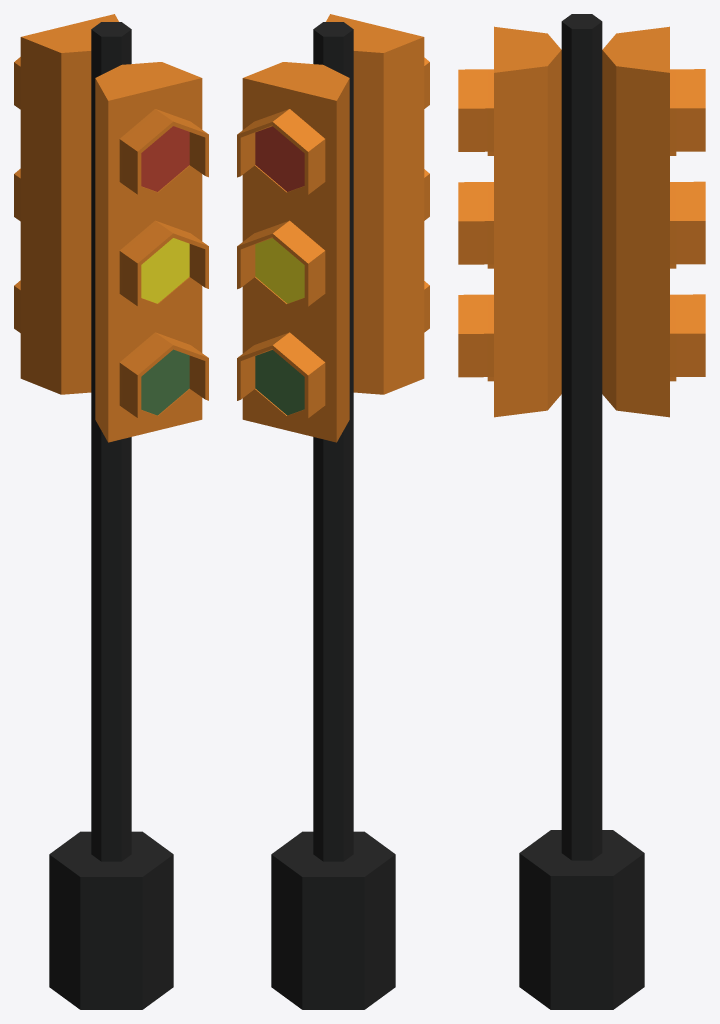
The model's file is Road_Objects_Traffic_Light_02.fbx.
3 views of the same model, side by side, from view 1: azimuth 30°, elevation 25°; view 2: azimuth 150°, elevation 25°; view 3: azimuth 270°, elevation 25° (orthographic).
Parts seen in each view (by area): view 1: Road_Objects_Traffic_Light_02; view 2: Road_Objects_Traffic_Light_02; view 3: Road_Objects_Traffic_Light_02.
Boxes of the visible parts, x1,y1,x2,y2 form: Road_Objects_Traffic_Light_02: [14, 14, 208, 1009]; Road_Objects_Traffic_Light_02: [237, 14, 429, 1009]; Road_Objects_Traffic_Light_02: [458, 14, 705, 1009].
Size of the model in its own units: 36.99 by 360 by 83.65.
